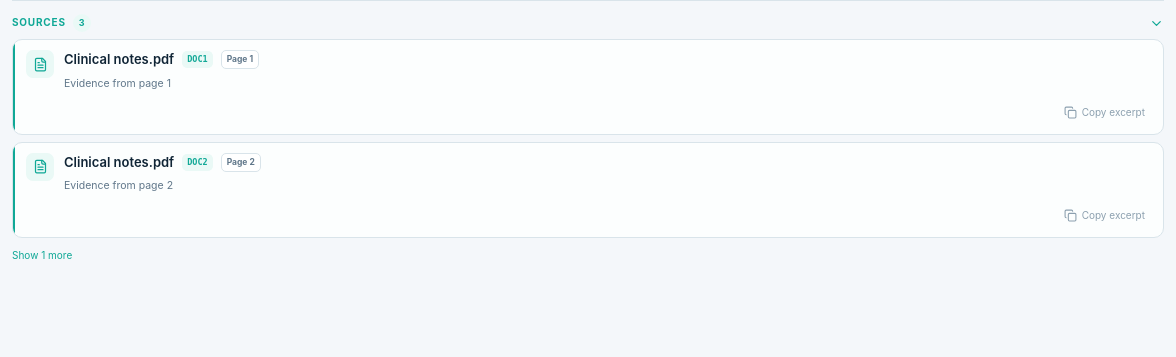
Test: SourcesPanel › renders page sources separately and expands a longer list
The width and height of the screenshot is (1176, 357).
expect the text "Page 1" is shown: met, box [221,50,259,69]
expect the text "Page 3" is not shown: met
Step 1. Click the button "Show 1 more" → (42, 255), box [12,244,72,266]
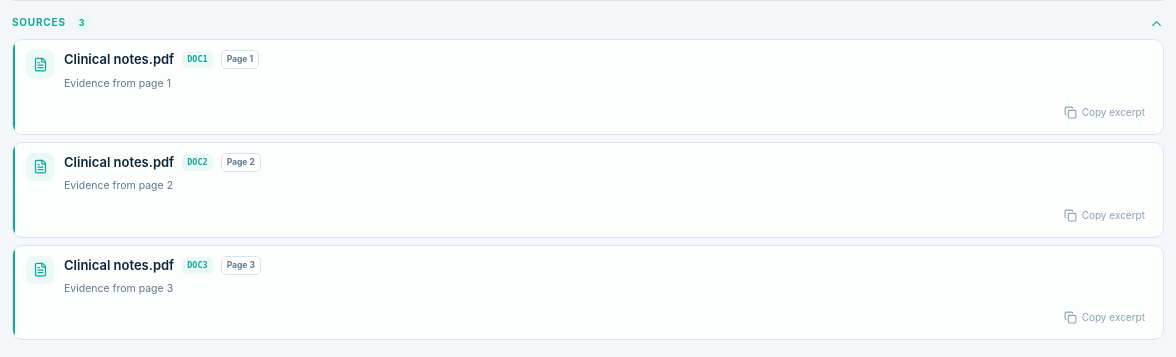
expect the text "Page 3" is shown: met, box [221,256,261,275]
